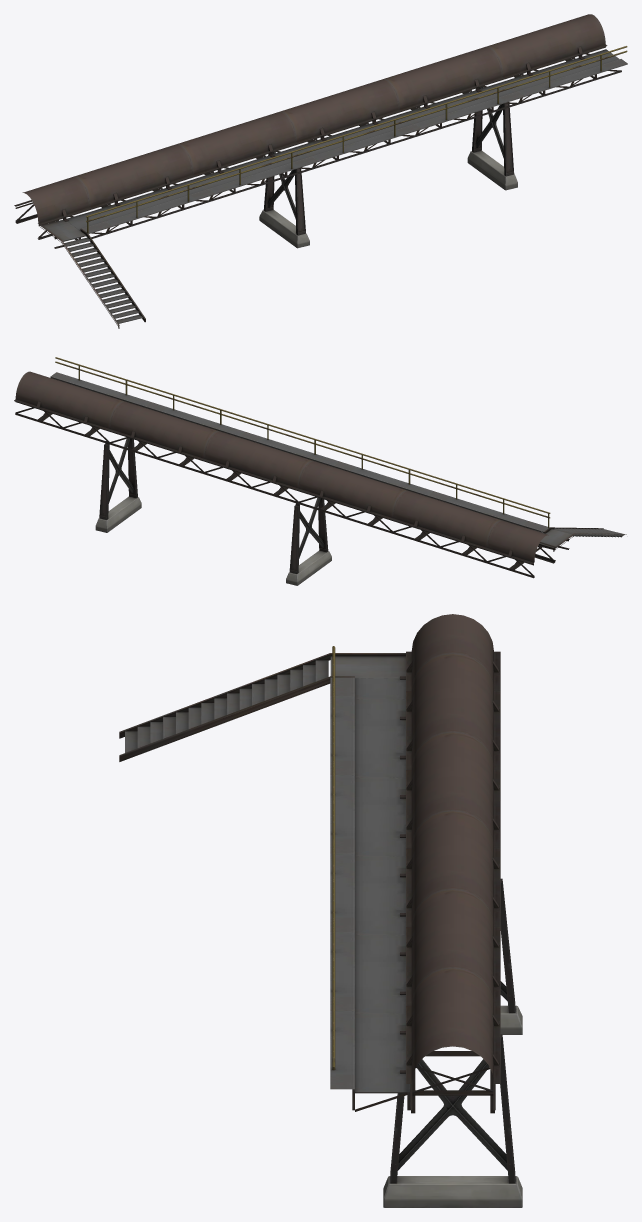
3 views of the same model, one above another, from view 1: azimuth 30°, elevation 25°; view 2: azimuth 150°, elevation 25°; view 3: azimuth 270°, elevation 25° (orthographic). The views are drawn at different scales.
Visible parts, largest first — view 1: body0_model0_lod0_mesh0, body0_model0_lod0_mesh1; view 2: body0_model0_lod0_mesh0, body0_model0_lod0_mesh1; view 3: body0_model0_lod0_mesh0, body0_model0_lod0_mesh1.
Boxes of the visible parts, x1,y1,x2,y2 form: body0_model0_lod0_mesh0: [14, 14, 627, 328]; body0_model0_lod0_mesh1: [259, 86, 517, 248]; body0_model0_lod0_mesh0: [14, 357, 626, 578]; body0_model0_lod0_mesh1: [95, 438, 331, 585]; body0_model0_lod0_mesh0: [119, 614, 500, 1113]; body0_model0_lod0_mesh1: [383, 878, 522, 1207].
Bounding box in the file's own units: 1408 × 336 × 474.
Materials: 2 (2 with a texture image).
